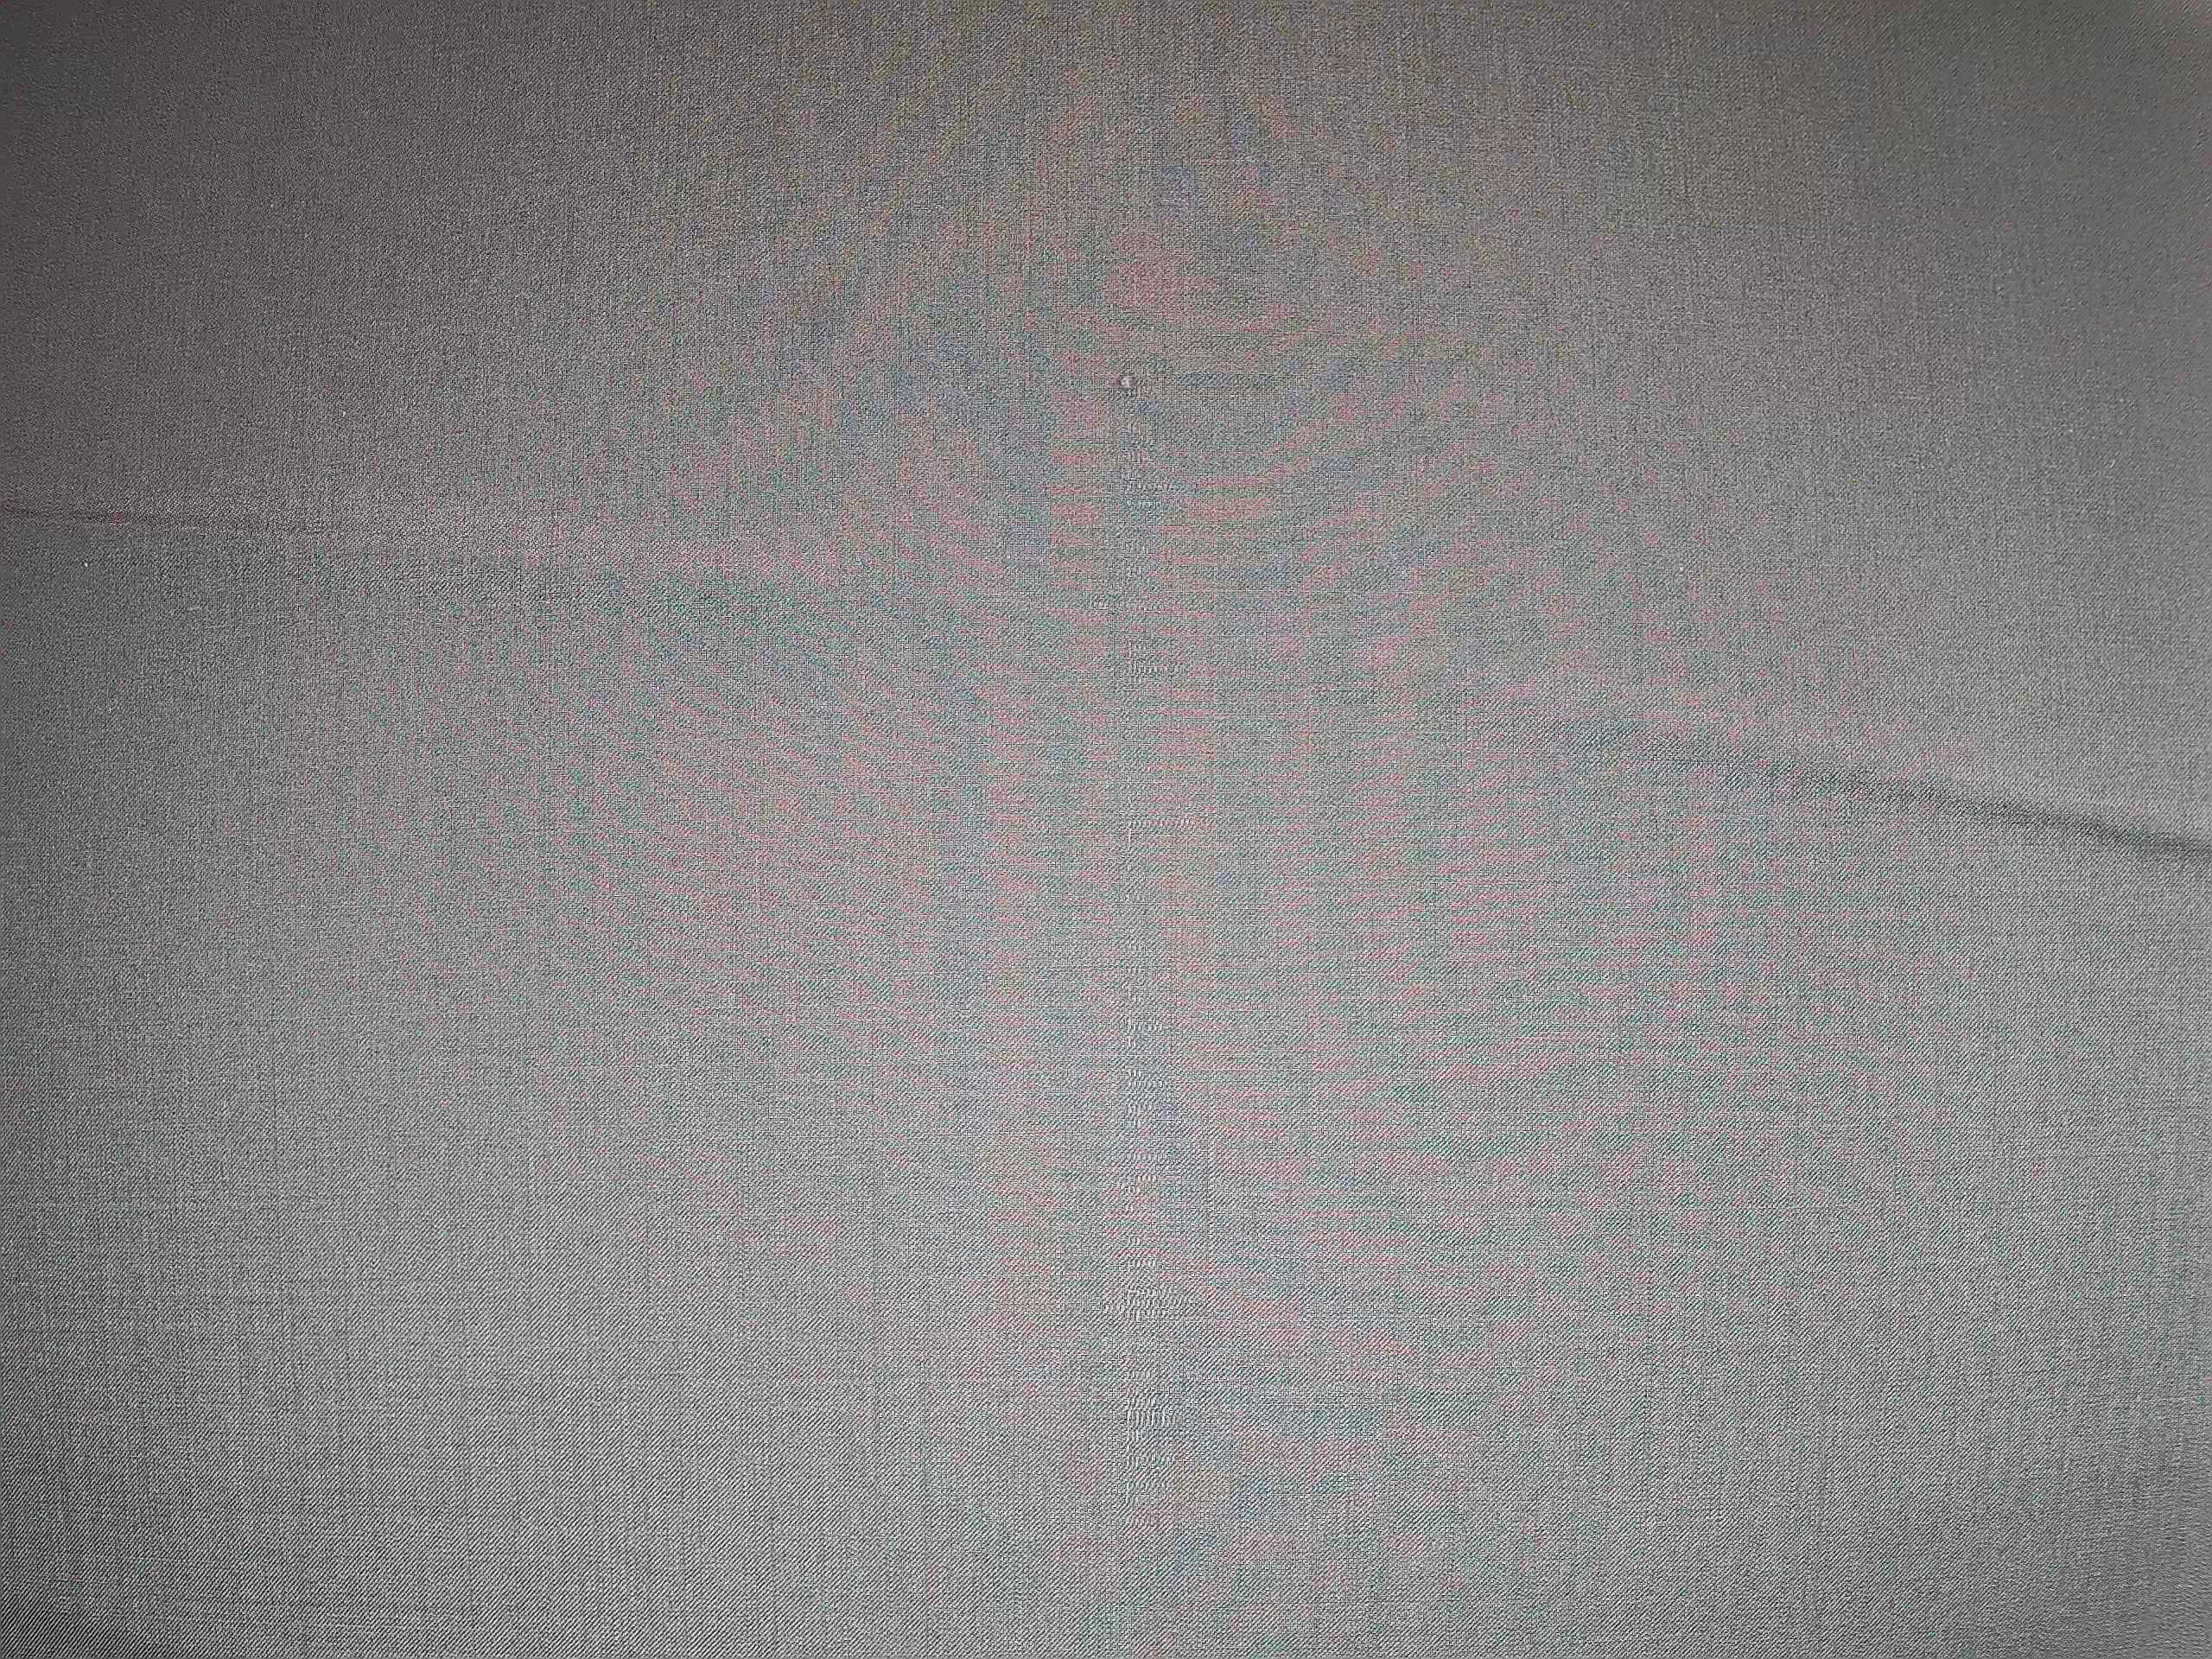jumps: (1086, 358, 1210, 1541)
